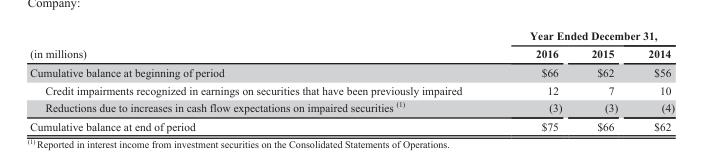table: (29, 29, 674, 132)
table column: (29, 29, 495, 132), (495, 29, 576, 132), (576, 29, 632, 132), (632, 29, 674, 132)
table column header: (29, 29, 674, 62)
table row: (29, 97, 674, 117), (29, 44, 674, 62), (29, 62, 674, 80), (29, 80, 674, 97), (29, 29, 674, 44), (29, 117, 674, 132)
table spanning cell: (29, 29, 495, 62), (495, 29, 674, 44)
